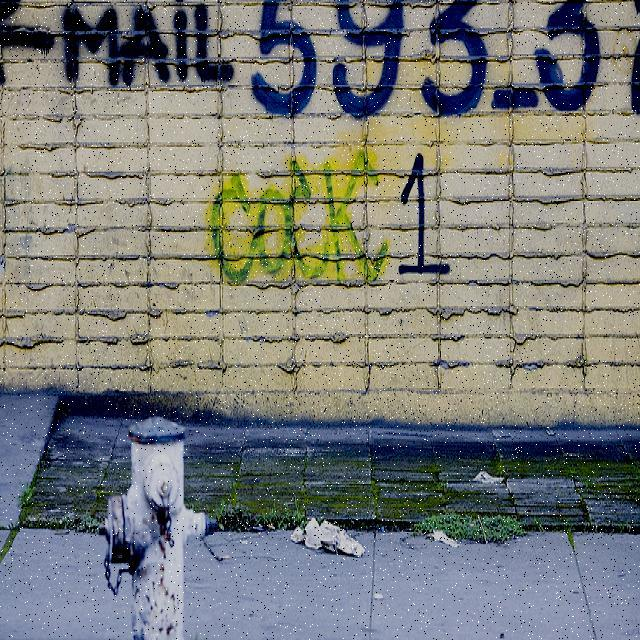fire_hydrant: (98, 416, 217, 640)
